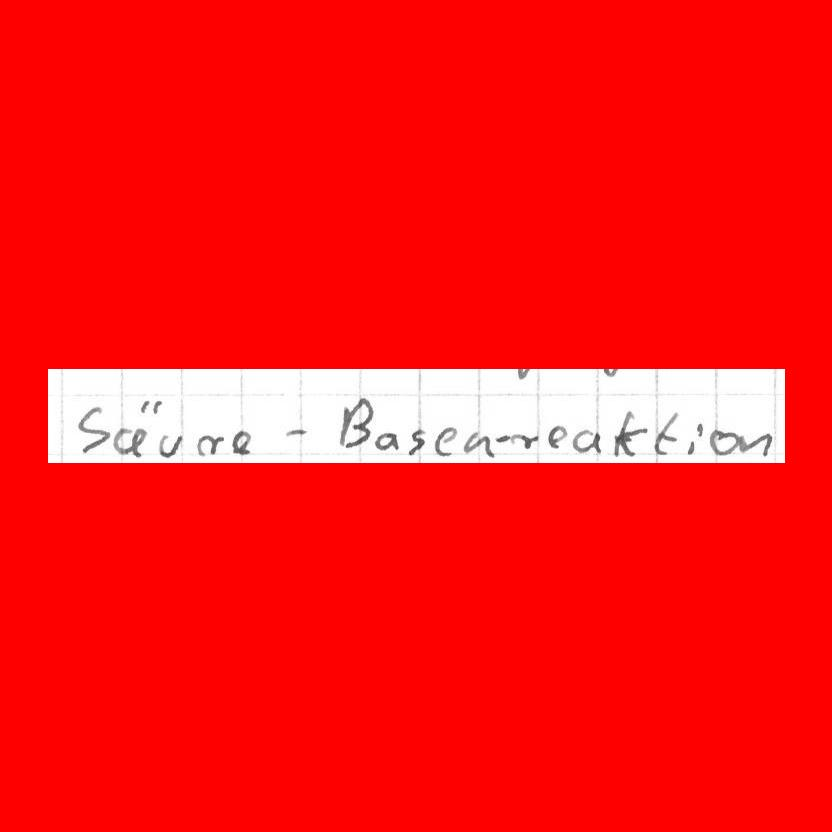Char: (111, 400, 161, 459), (611, 408, 647, 462), (76, 401, 109, 459), (338, 397, 371, 450), (651, 409, 678, 457), (738, 429, 771, 457), (709, 425, 737, 456), (572, 427, 602, 454), (464, 431, 492, 458), (433, 425, 456, 457), (195, 432, 224, 457), (502, 431, 540, 450), (159, 430, 183, 460), (230, 428, 253, 453), (546, 425, 568, 451), (407, 426, 428, 453), (373, 430, 398, 452), (688, 422, 704, 456), (285, 425, 309, 440)
